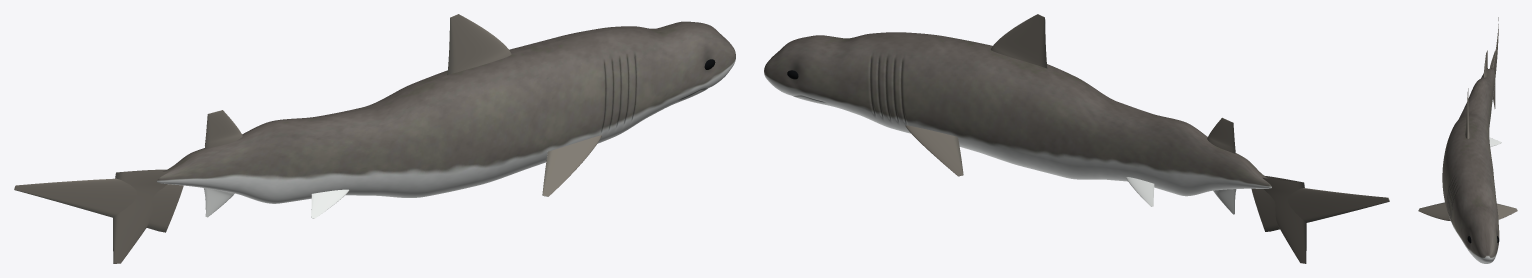
Rendered from common_smooth_hound.glb.
3 renders of one model, left to right at view 1: azimuth 30°, elevation 25°; view 2: azimuth 150°, elevation 25°; view 3: azimuth 270°, elevation 25°, orthographic. The views are drawn at different scales.
Parts seen in each view (by area): view 1: common_smooth_hound_Body, common_smooth_hound_Fins; view 2: common_smooth_hound_Body, common_smooth_hound_Fins; view 3: common_smooth_hound_Body, common_smooth_hound_Fins.
Boxes of the visible parts, bbox=[...] form: common_smooth_hound_Body: bbox=[157, 21, 735, 203]; common_smooth_hound_Fins: bbox=[14, 14, 601, 263]; common_smooth_hound_Body: bbox=[764, 32, 1271, 196]; common_smooth_hound_Fins: bbox=[905, 14, 1389, 263]; common_smooth_hound_Body: bbox=[1442, 68, 1499, 263]; common_smooth_hound_Fins: bbox=[1418, 17, 1517, 220].
Size of the model in its own units: 1.1 by 0.2773 by 0.2094.
Materials: 3 (1 with a texture image).
